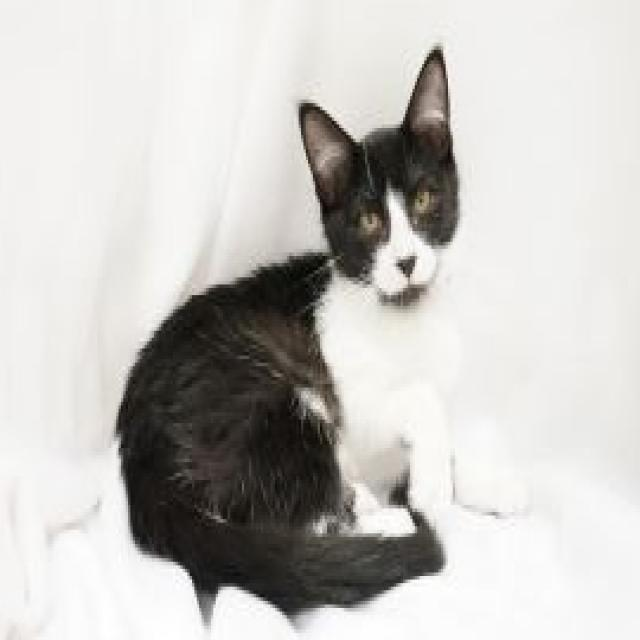Tuxedo: (112, 41, 536, 606)
